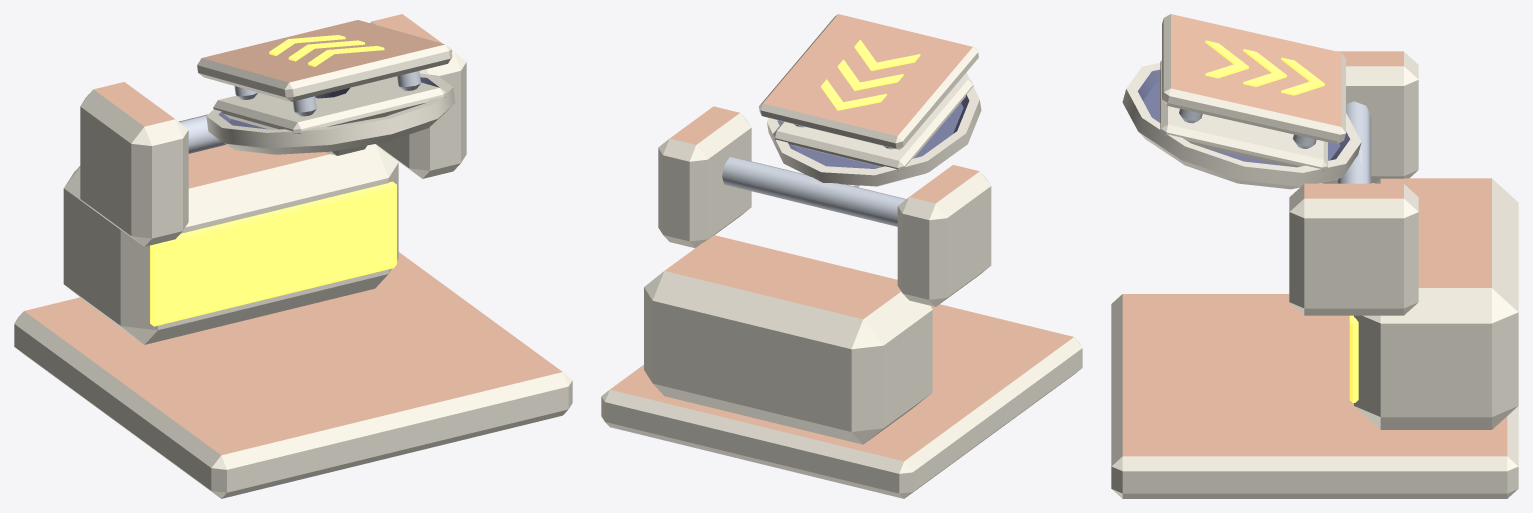
The model's file is R4X_KnockbackTrapDeployer_LOD1.fbx.
3 views of the same model, side by side, from view 1: azimuth 30°, elevation 25°; view 2: azimuth 150°, elevation 25°; view 3: azimuth 270°, elevation 25° (orthographic). The views are drawn at different scales.
Parts seen in each view (by area): view 1: R4X_KnockbackTrapDeployer_LOD1; view 2: R4X_KnockbackTrapDeployer_LOD1; view 3: R4X_KnockbackTrapDeployer_LOD1.
Boxes of the visible parts, x1,y1,x2,y2 form: R4X_KnockbackTrapDeployer_LOD1: [14, 14, 572, 498]; R4X_KnockbackTrapDeployer_LOD1: [601, 14, 1082, 498]; R4X_KnockbackTrapDeployer_LOD1: [1111, 14, 1518, 498].
Bounding box in the file's own units: 0.52 × 0.5166 × 0.52.
